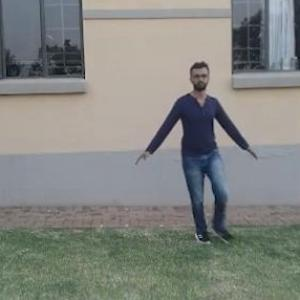land: (137, 64, 266, 233)
